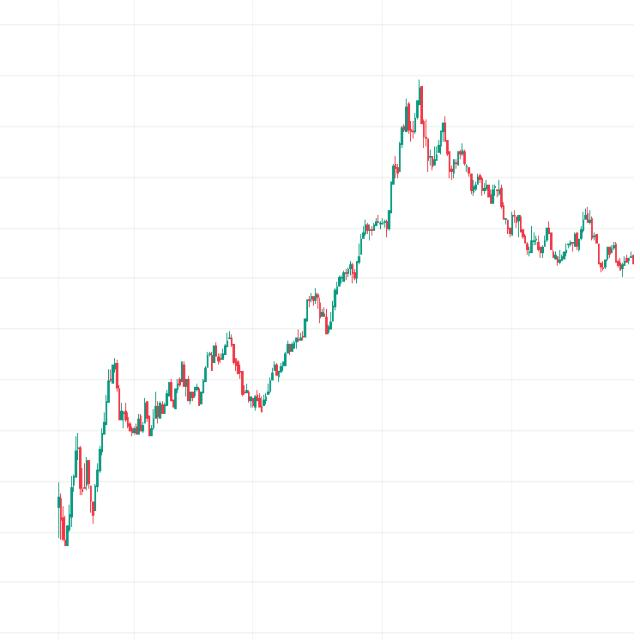Rising-Wedge: (214, 202, 405, 437)
